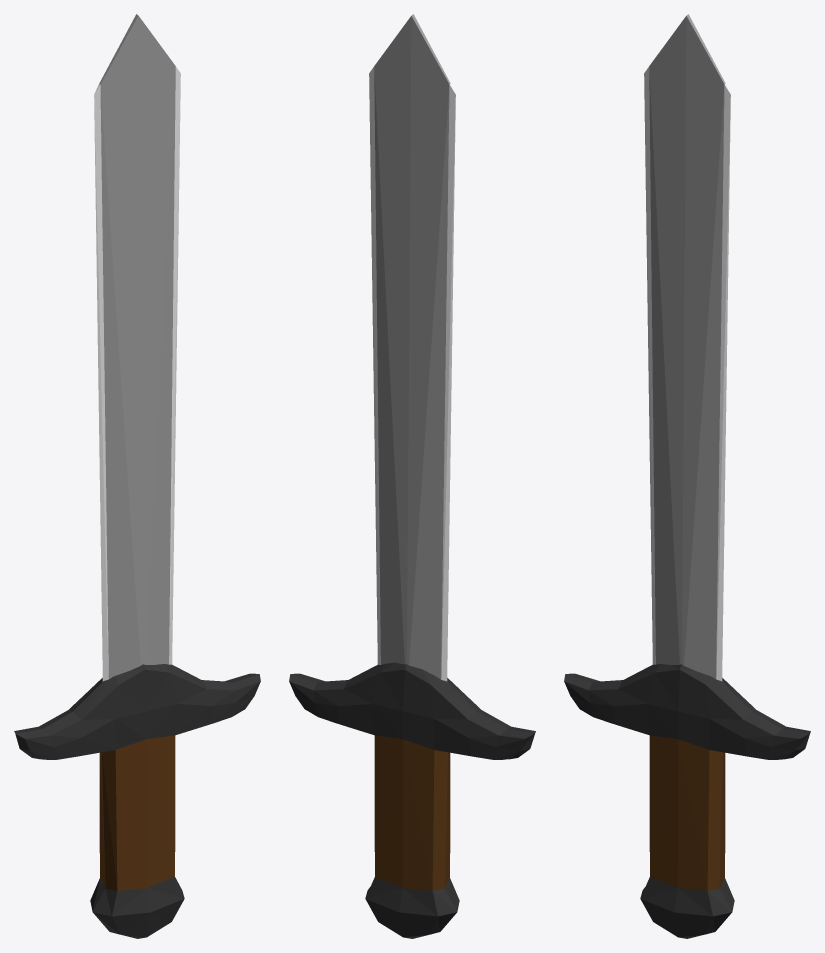
The model's file is Sword.glb.
3 renders of one model, left to right at view 1: azimuth 30°, elevation 25°; view 2: azimuth 150°, elevation 25°; view 3: azimuth 330°, elevation 25°, orthographic.
Visible parts, largest first — view 1: Short_Sword_sword_Cube; view 2: Short_Sword_sword_Cube; view 3: Short_Sword_sword_Cube.
Boxes of the visible parts, x1,y1,x2,y2 form: Short_Sword_sword_Cube: (14, 14, 260, 938); Short_Sword_sword_Cube: (289, 14, 535, 938); Short_Sword_sword_Cube: (564, 14, 810, 938).
Bounding box in the file's own units: 0.9544 × 3.45 × 0.1798.
Materials: 1 (1 with a texture image).
